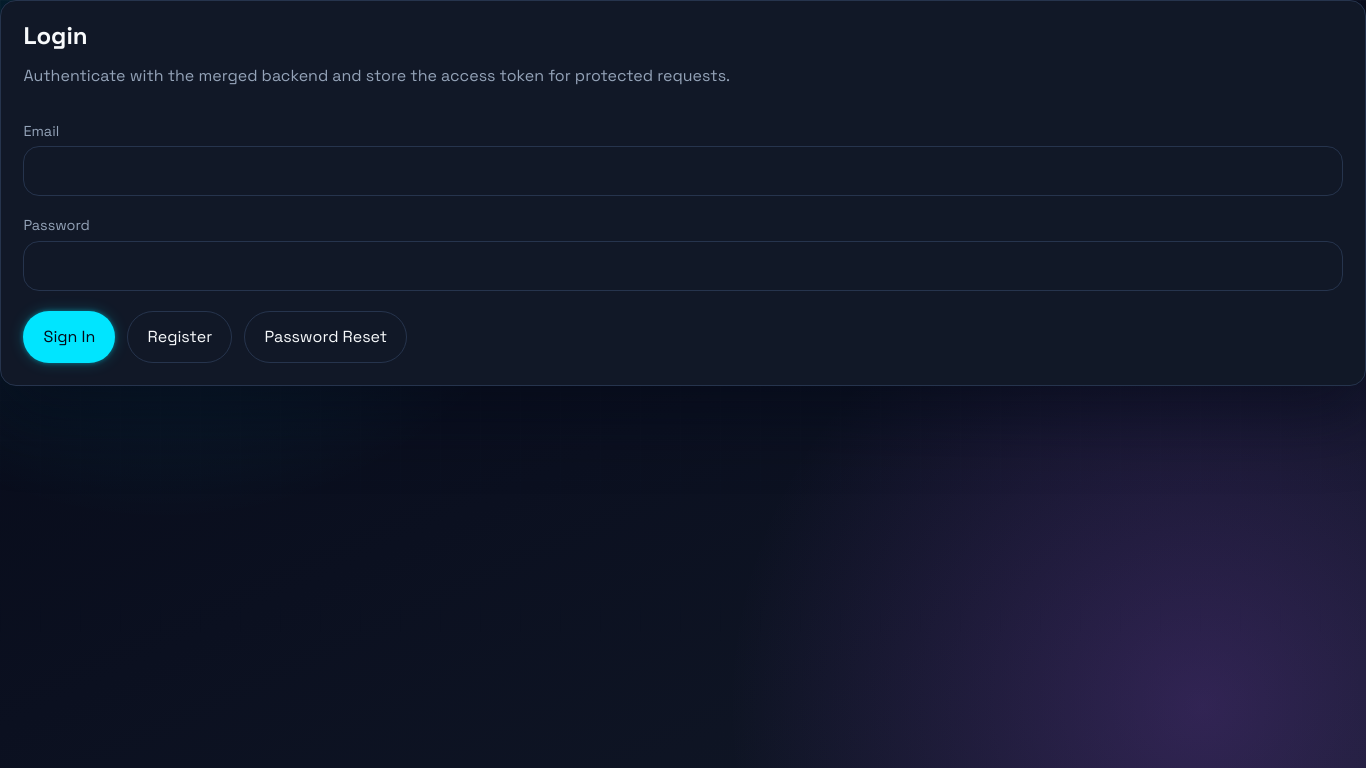
auth pages › validates login form fields before submitting
Type "not-an-email" into the field labelled "Email" at point(683, 171), box [23, 146, 1343, 196]
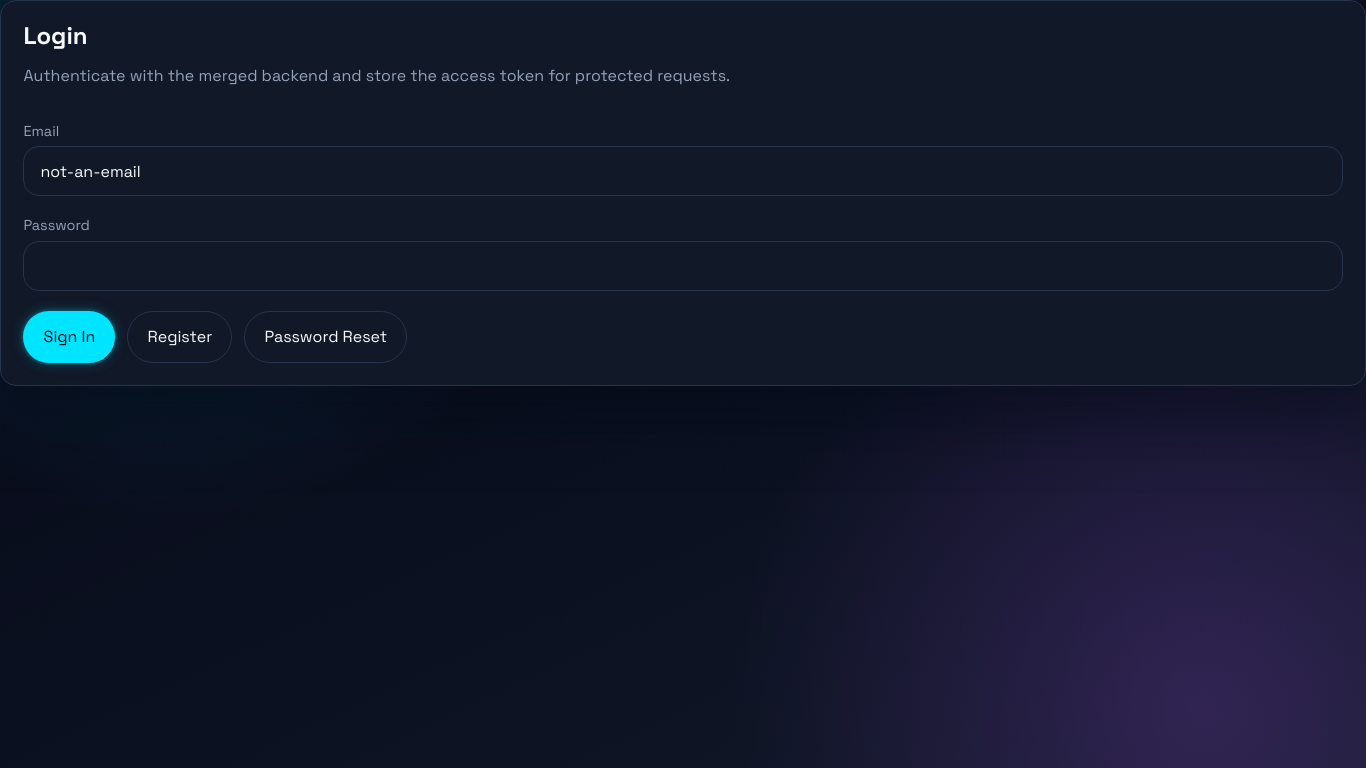
Submit the form, box [23, 122, 1343, 362]
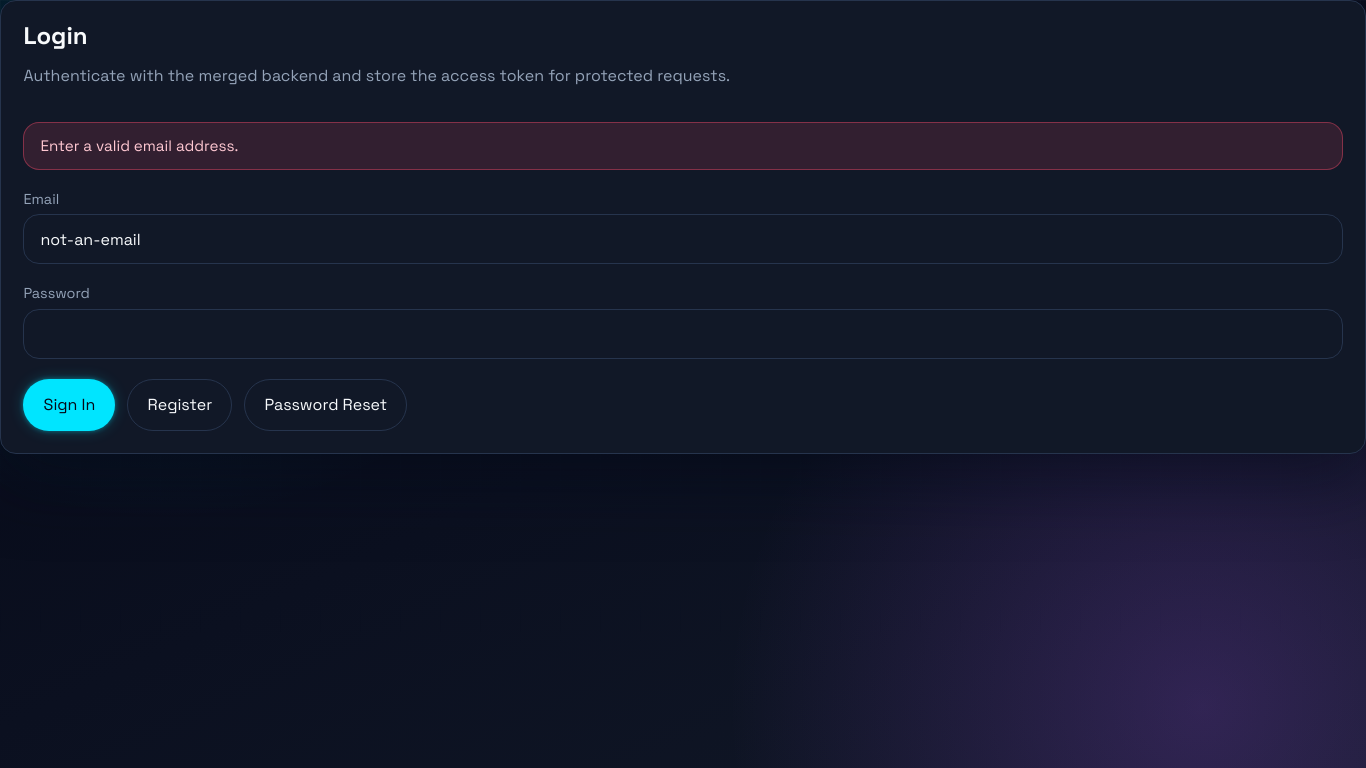
Check: the text "Enter a valid email address." is shown, box [23, 122, 1343, 170]
Replace the text in the field labelled "Email" with "user@example.com" at point(683, 239), box [23, 214, 1343, 264]
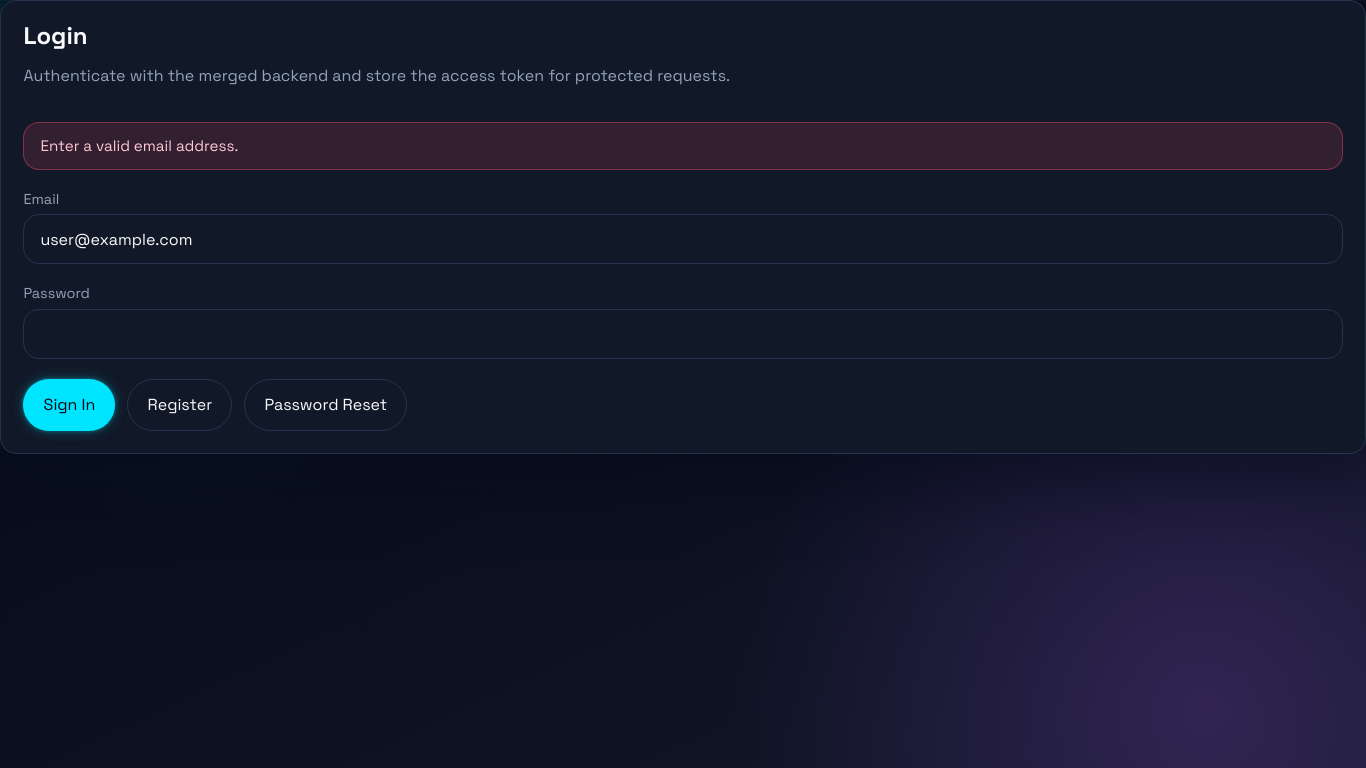
Submit the form, box [23, 190, 1343, 431]
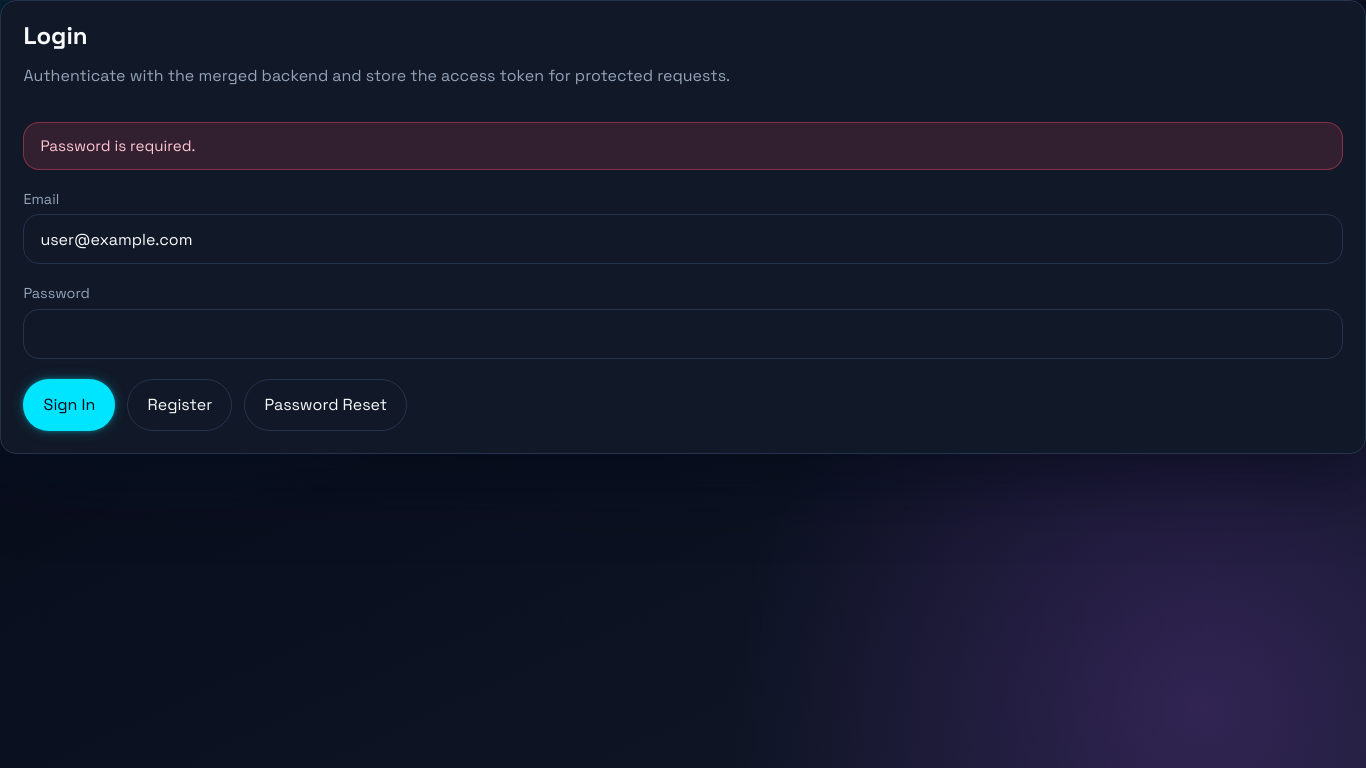
Check: the text "Password is required." is shown, box [23, 122, 1343, 170]
